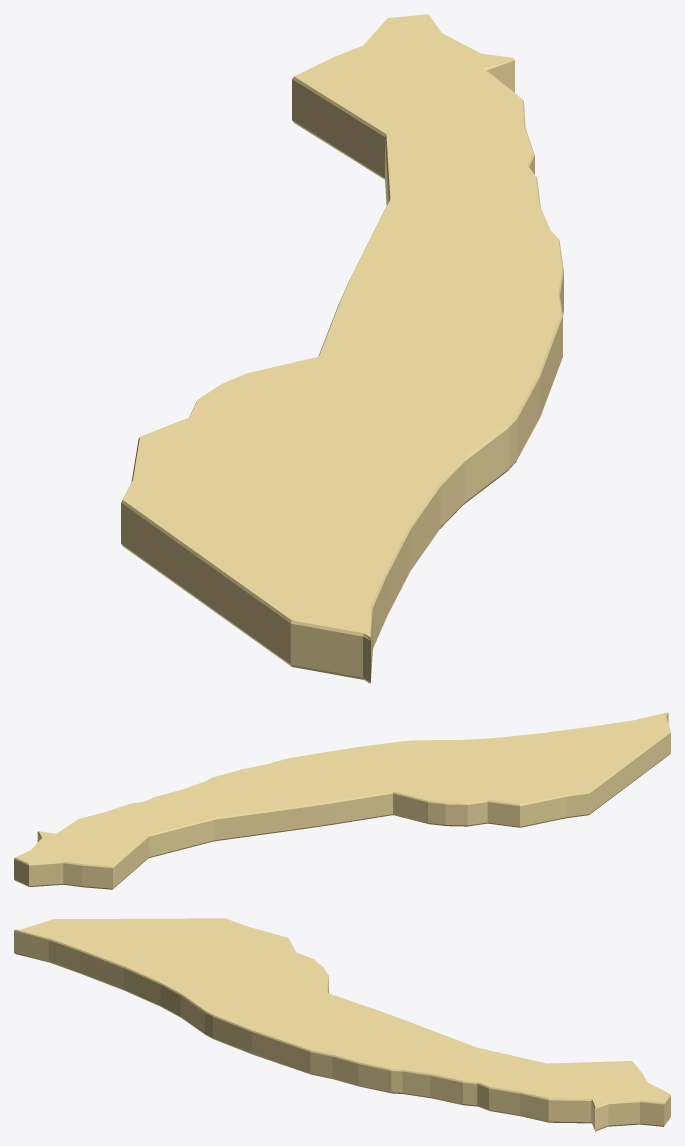
File: SOM.glb
3 renders of one model, top to bottom at view 1: azimuth 30°, elevation 25°; view 2: azimuth 150°, elevation 25°; view 3: azimuth 270°, elevation 25°, orthographic. The views are drawn at different scales.
Size of the model in its own units: 1.14 by 0.068 by 1.67.
